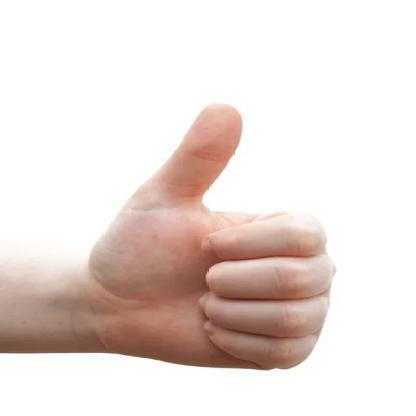thumb_up: (88, 101, 336, 374)
